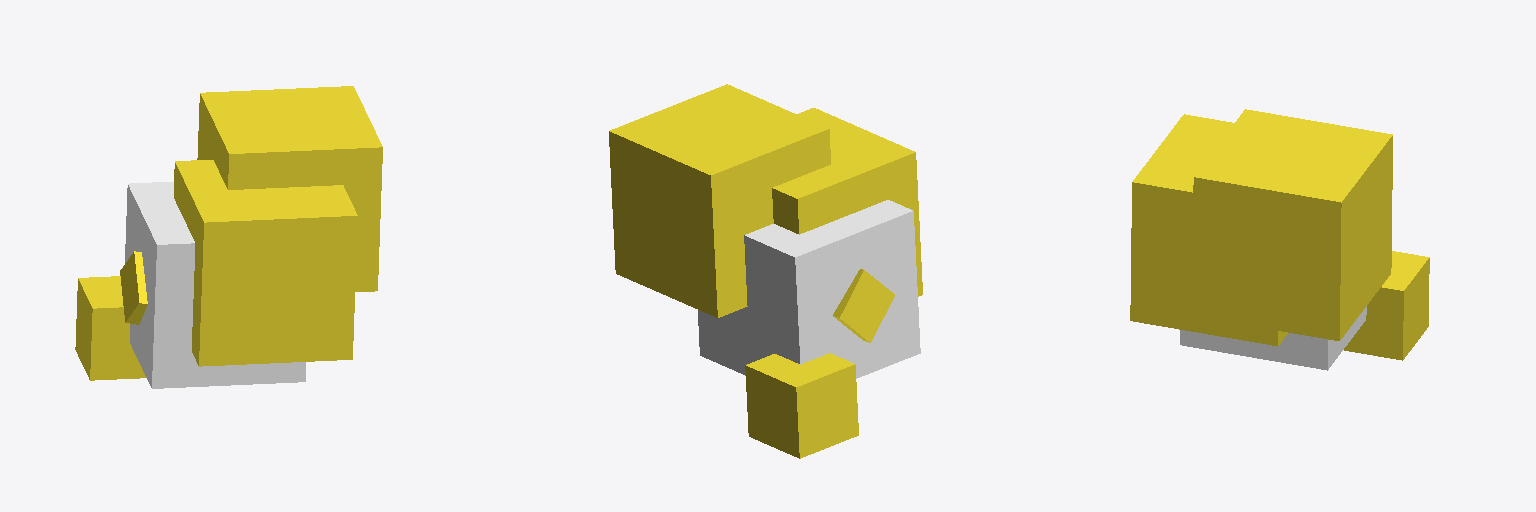
File: DigitoHead.obj
3 views of the same model, side by side, from view 1: azimuth 30°, elevation 25°; view 2: azimuth 150°, elevation 25°; view 3: azimuth 270°, elevation 25° (orthographic).
Visible parts, largest first — view 1: group[number redacted], group[number redacted], group[number redacted], group[number redacted], group[number redacted]; view 2: group[number redacted], group[number redacted], group[number redacted], group[number redacted], group[number redacted]; view 3: group[number redacted], group[number redacted], group[number redacted], group[number redacted].
Boxes of the visible parts, box(x1,y1,x2,y2) form: group[number redacted]: box(174, 160, 357, 366); group[number redacted]: box(197, 86, 382, 291); group[number redacted]: box(125, 182, 305, 388); group[number redacted]: box(75, 276, 145, 380); group[number redacted]: box(120, 251, 147, 324); group[number redacted]: box(609, 84, 830, 317); group[number redacted]: box(698, 200, 920, 378); group[number redacted]: box(772, 108, 922, 296); group[number redacted]: box(745, 353, 858, 458); group[number redacted]: box(833, 269, 894, 342); group[number redacted]: box(1192, 109, 1392, 340); group[number redacted]: box(1130, 114, 1287, 345); group[number redacted]: box(1344, 251, 1429, 360); group[number redacted]: box(1180, 306, 1366, 370).
Size of the model in its own units: 0.4066 by 0.3788 by 0.4102.